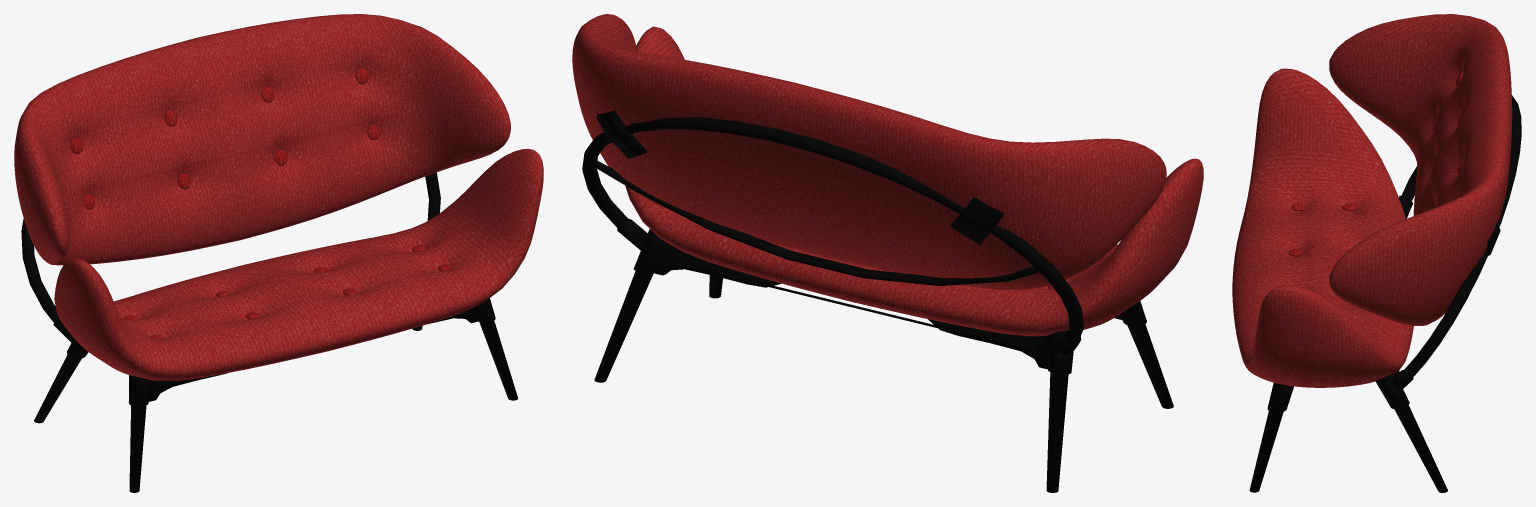
File: sofa.glb
3 renders of one model, left to right at view 1: azimuth 30°, elevation 25°; view 2: azimuth 150°, elevation 25°; view 3: azimuth 270°, elevation 25°, orthographic. The views are drawn at different scales.
Parts seen in each view (by area): view 1: StaticMesh; view 2: StaticMesh; view 3: StaticMesh.
Part boxes in pixels (x1,y1,x2,y2): StaticMesh: (14,14,543,492); StaticMesh: (572,14,1203,492); StaticMesh: (1232,14,1521,492).
Size of the model in its own units: 1.21 by 0.7828 by 0.6628.
3 materials, 3 textured.
